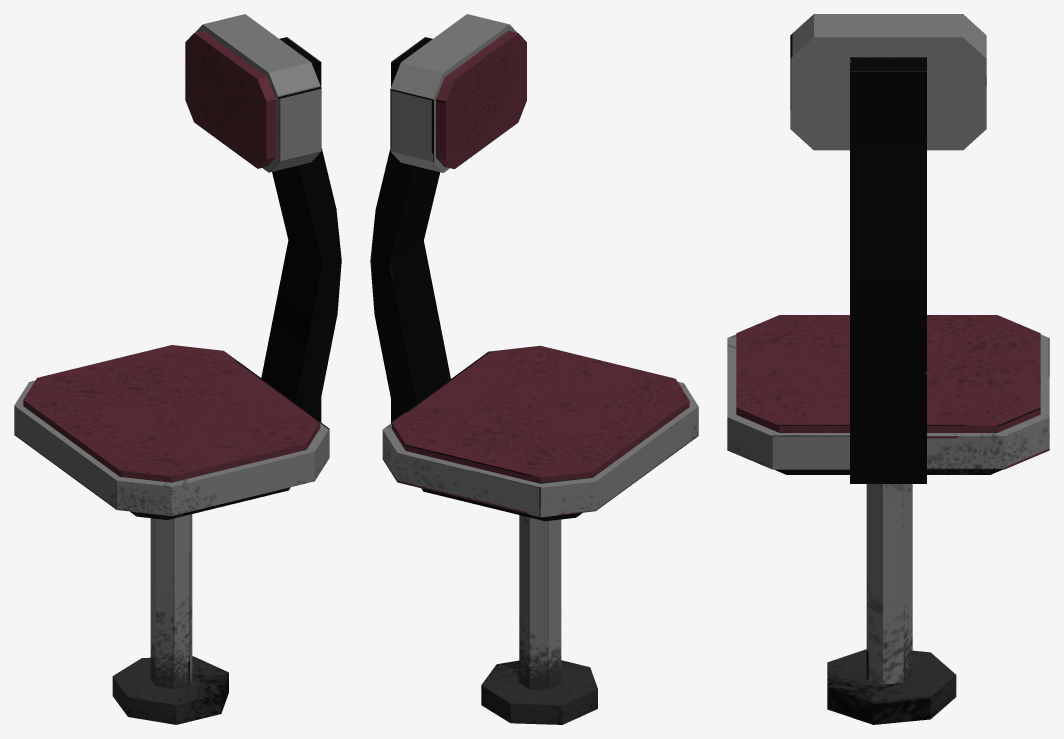
The model's file is Env_Stool.fbx.
3 views of the same model, side by side, from view 1: azimuth 30°, elevation 25°; view 2: azimuth 150°, elevation 25°; view 3: azimuth 270°, elevation 25° (orthographic). The views are drawn at different scales.
Visible parts, largest first — view 1: Cube.035; view 2: Cube.035; view 3: Cube.035.
Part boxes in pixels (x1,y1,x2,y2): Cube.035: (14, 14, 341, 724); Cube.035: (370, 14, 698, 724); Cube.035: (727, 14, 1049, 724).
Size of the model in its own units: 60.09 by 141 by 57.31.
